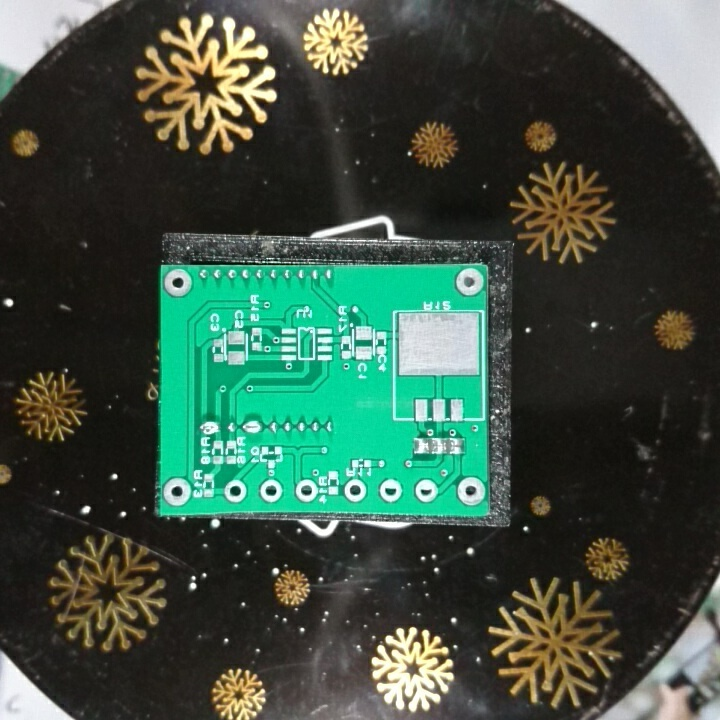F: (162, 267, 195, 300), (454, 266, 485, 298), (457, 474, 486, 508), (162, 476, 191, 506), (221, 477, 250, 506), (377, 475, 404, 504), (257, 476, 284, 504), (342, 478, 368, 504), (292, 477, 317, 503), (413, 478, 437, 503)
P: (198, 418, 222, 440), (238, 418, 264, 438)
